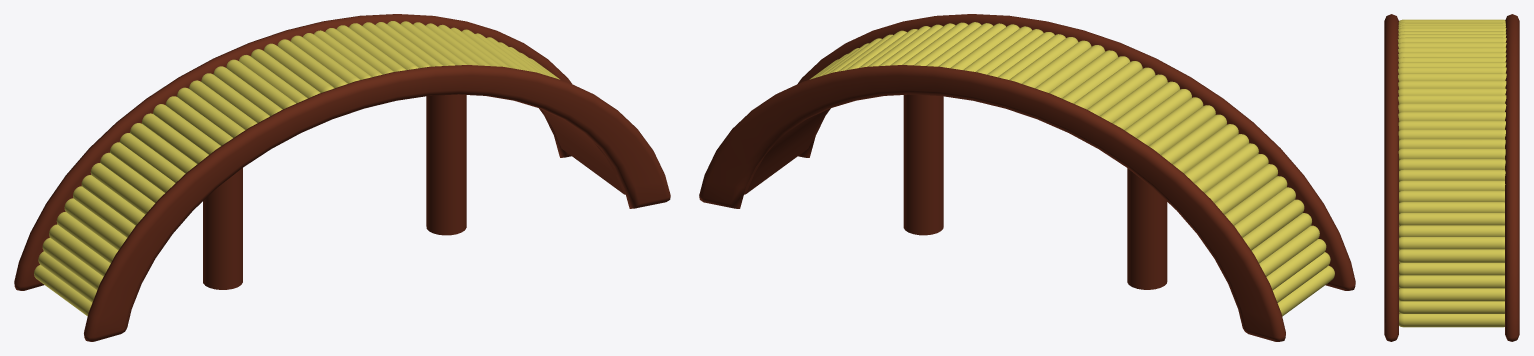
The model's file is BridgeBig.fbx.
3 views of the same model, side by side, from view 1: azimuth 30°, elevation 25°; view 2: azimuth 150°, elevation 25°; view 3: azimuth 270°, elevation 25° (orthographic). The views are drawn at different scales.
Visible parts, largest first — view 1: Details, pCylinder20, pCylinder22, pCylinder25; view 2: Details, pCylinder20, pCylinder22, pCylinder25; view 3: Details, pCylinder20.
Boxes of the visible parts, box(x1,y1,x2,y2) form: Details: box(34, 21, 625, 315); pCylinder20: box(14, 14, 670, 341); pCylinder22: box(426, 94, 466, 235); pCylinder25: box(203, 168, 242, 289); Details: box(744, 22, 1334, 316); pCylinder20: box(699, 14, 1355, 341); pCylinder22: box(903, 94, 943, 235); pCylinder25: box(1127, 168, 1167, 289); Details: box(1397, 19, 1506, 327); pCylinder20: box(1384, 14, 1519, 341).
Size of what is drawn, in the model's own units: 16.02 by 5.25 by 3.7.
